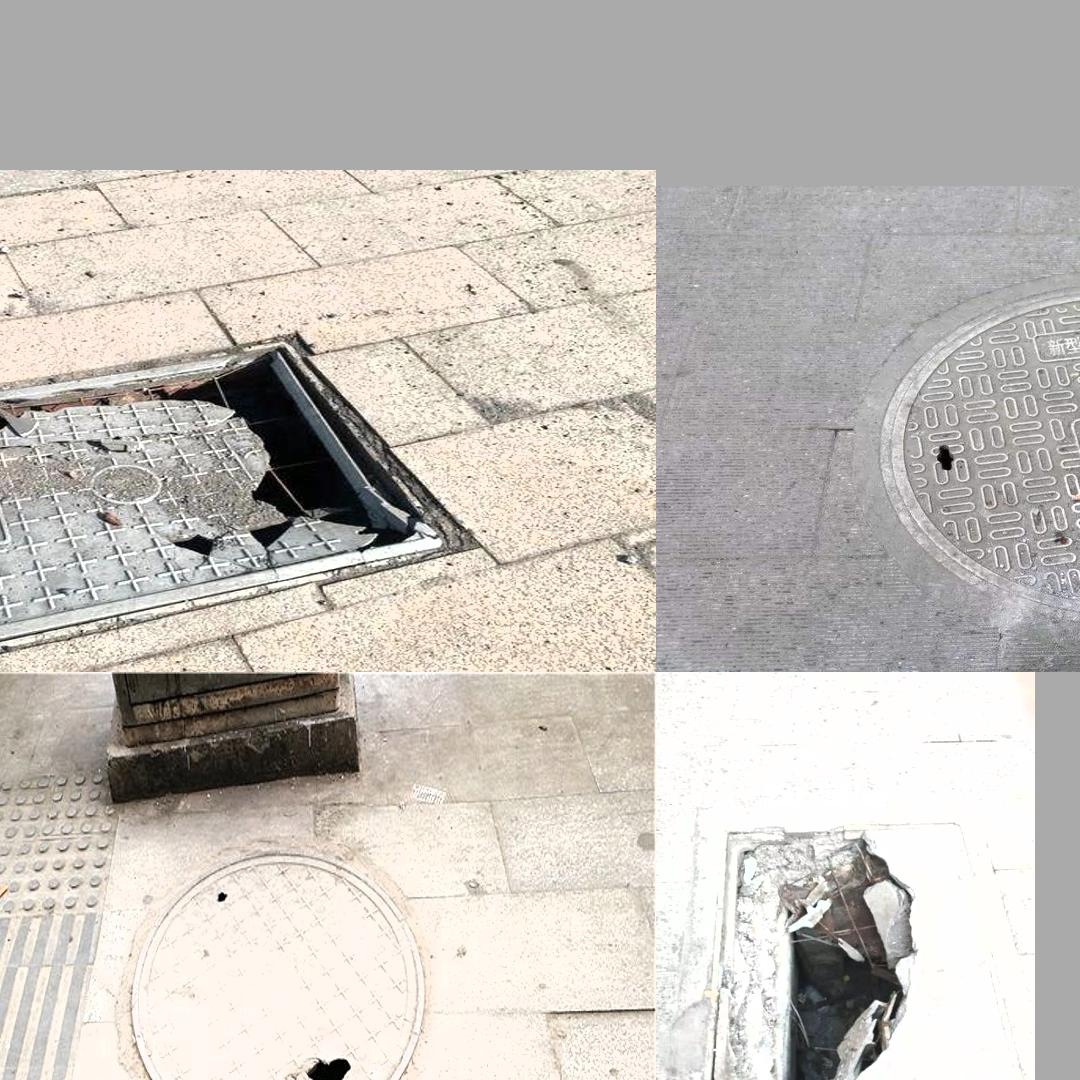broke: (0, 324, 481, 670), (693, 808, 1017, 1080), (131, 851, 425, 1080), (877, 293, 1080, 615)
